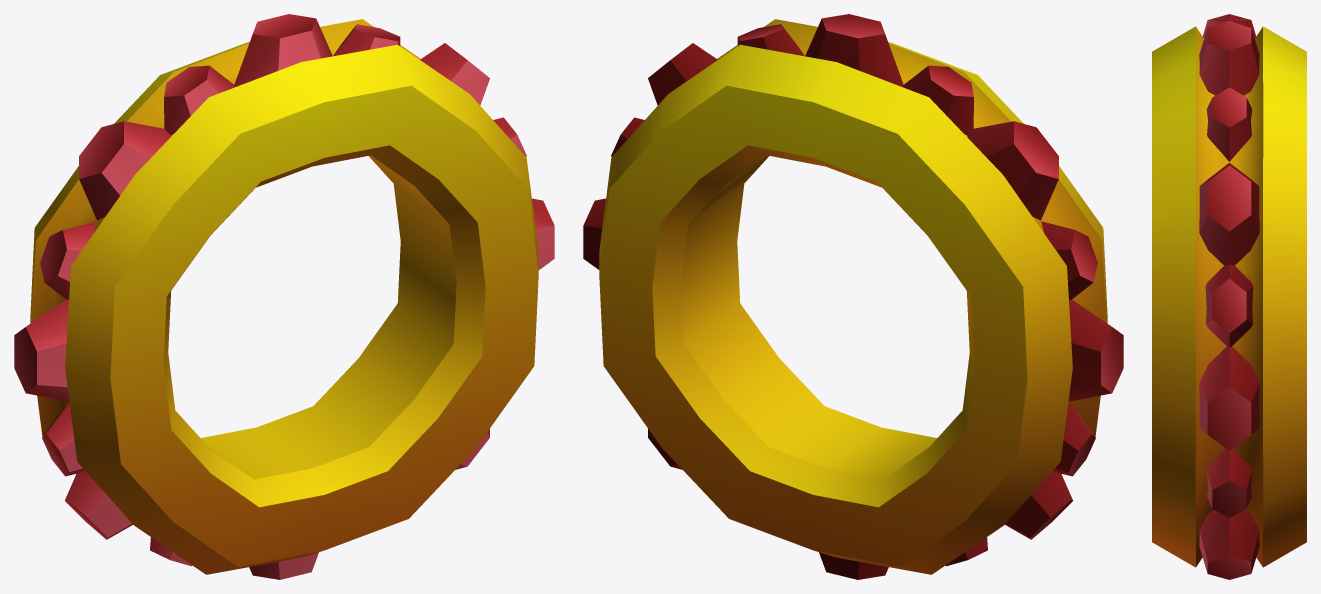
File: Gold_Gem_Ring_03.glb
3 views of the same model, side by side, from view 1: azimuth 30°, elevation 25°; view 2: azimuth 150°, elevation 25°; view 3: azimuth 270°, elevation 25° (orthographic). The views are drawn at different scales.
Parts seen in each view (by area): view 1: Gold_Gem_Ring_03; view 2: Gold_Gem_Ring_03; view 3: Gold_Gem_Ring_03.
Part boxes in pixels (bbox=[...]): Gold_Gem_Ring_03: bbox=[14, 14, 554, 579]; Gold_Gem_Ring_03: bbox=[583, 14, 1123, 579]; Gold_Gem_Ring_03: bbox=[1152, 14, 1306, 579].
Size of the model in its own units: 0.5503 by 0.5503 by 0.1478.
Materials: 1 (1 with a texture image).
